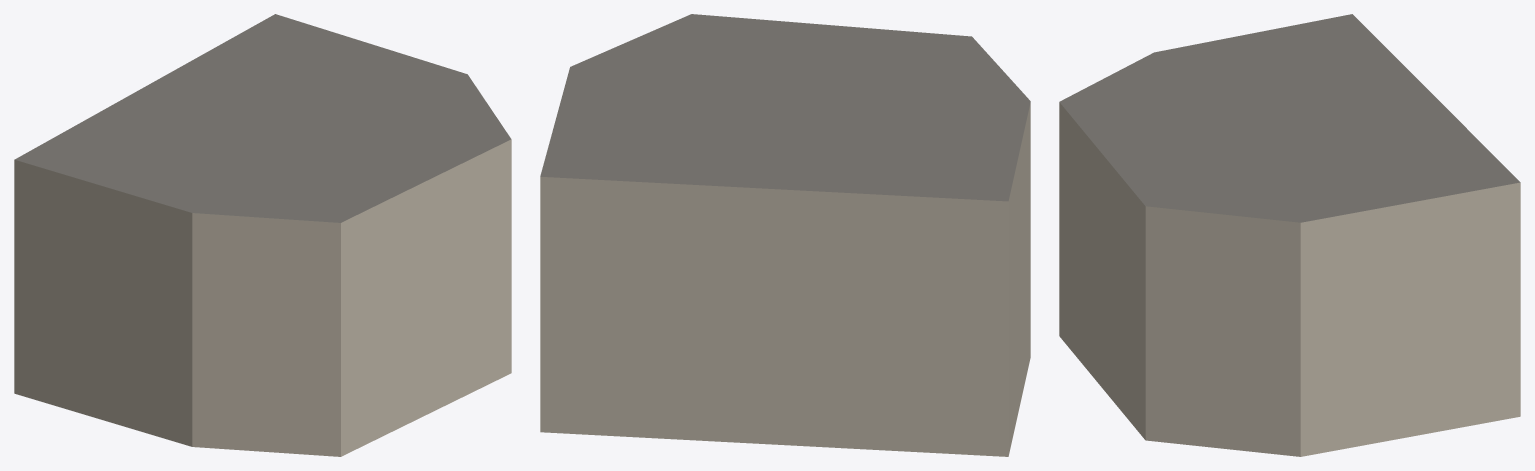
3 views of the same model, side by side, from view 1: azimuth 30°, elevation 25°; view 2: azimuth 150°, elevation 25°; view 3: azimuth 270°, elevation 25° (orthographic). The views are drawn at different scales.
Visible parts, largest first — view 1: HP-w1287260668; view 2: HP-w1287260668; view 3: HP-w1287260668.
Boxes of the visible parts, left/top/right/bottom form: HP-w1287260668: left=14, top=14, right=511, bottom=456; HP-w1287260668: left=540, top=14, right=1030, bottom=456; HP-w1287260668: left=1059, top=14, right=1520, bottom=456.
Size of the model in its own units: 34.41 by 18 by 32.14.
